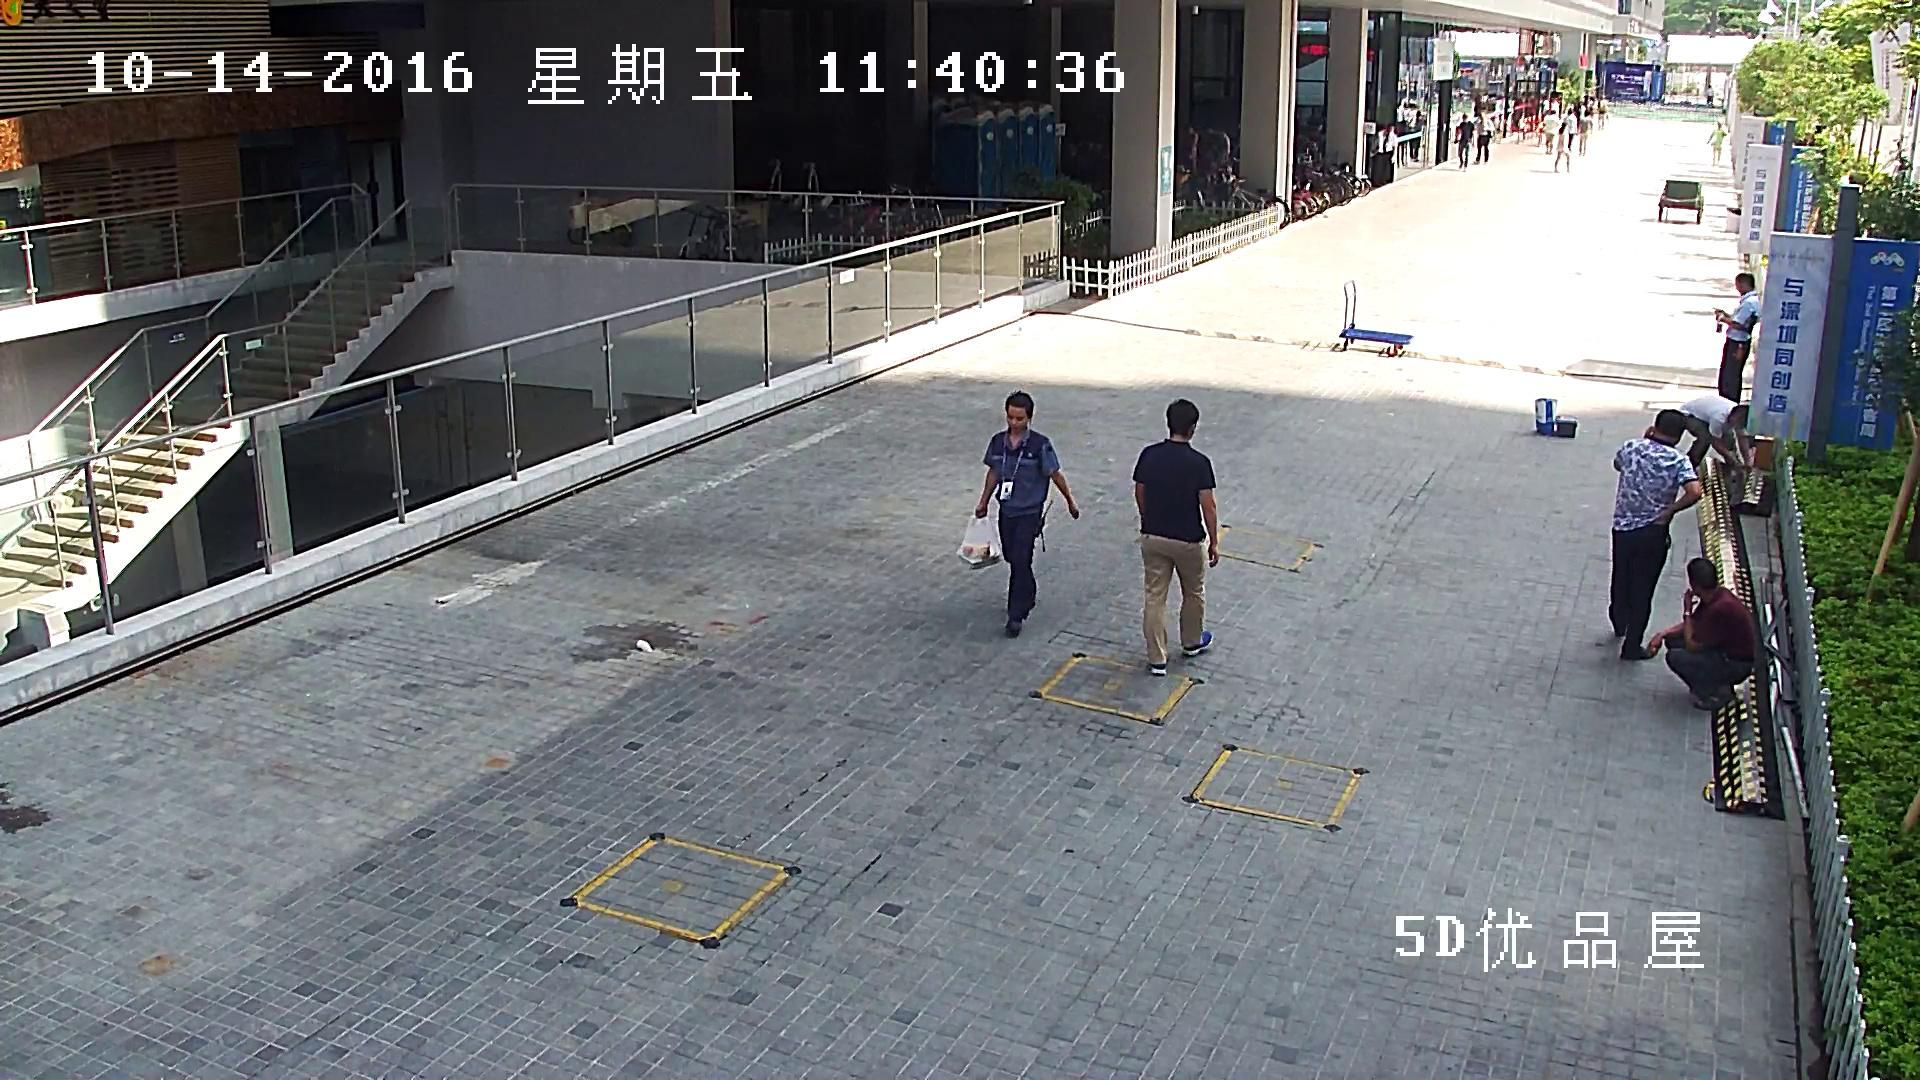person: (955, 388, 1077, 645), (972, 389, 1081, 638), (1128, 397, 1218, 676), (1607, 406, 1701, 663), (1646, 555, 1759, 711), (1678, 393, 1755, 480), (1712, 271, 1761, 405), (1376, 122, 1398, 185), (1471, 110, 1495, 166), (1452, 113, 1474, 172), (1183, 122, 1201, 175), (1553, 121, 1571, 174), (1705, 122, 1727, 162), (1542, 109, 1559, 154), (1214, 127, 1230, 171), (1578, 110, 1593, 157), (1562, 107, 1577, 151), (1595, 97, 1609, 129), (1583, 96, 1593, 128), (1705, 83, 1714, 106)
